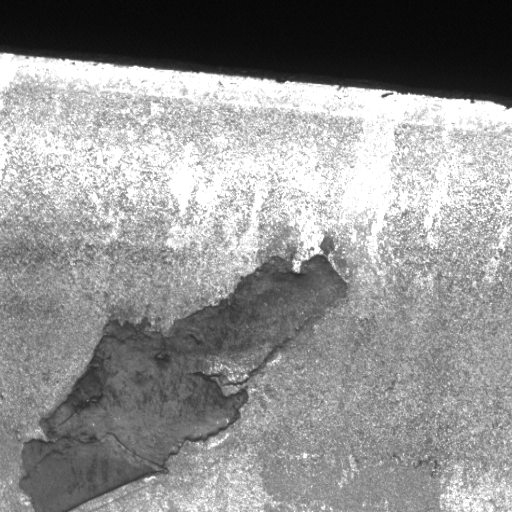aokeng: (17, 250, 353, 512)
